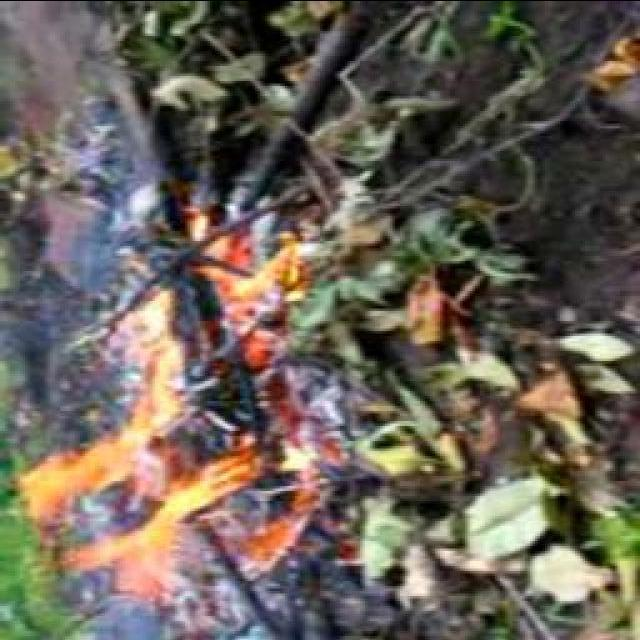Fire: (29, 222, 310, 590)
